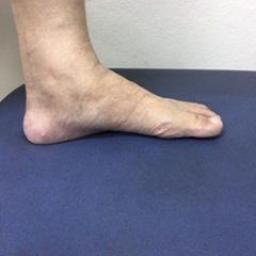Medial View -Left Foot-: (12, 30, 230, 169)
